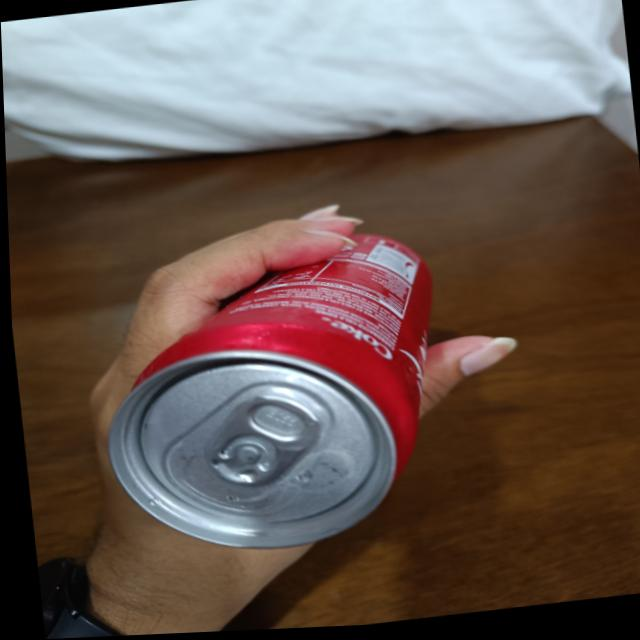coke: (86, 225, 458, 568)
